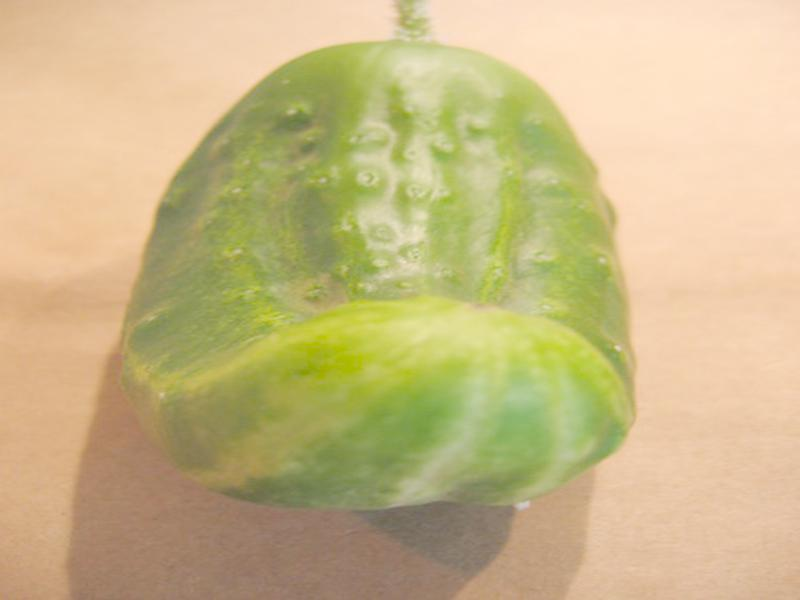Cucumber: (126, 38, 640, 509)
